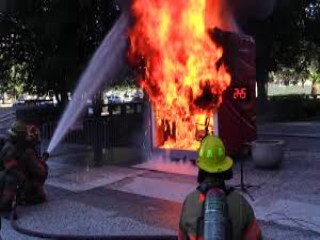fire: (131, 7, 234, 142)
